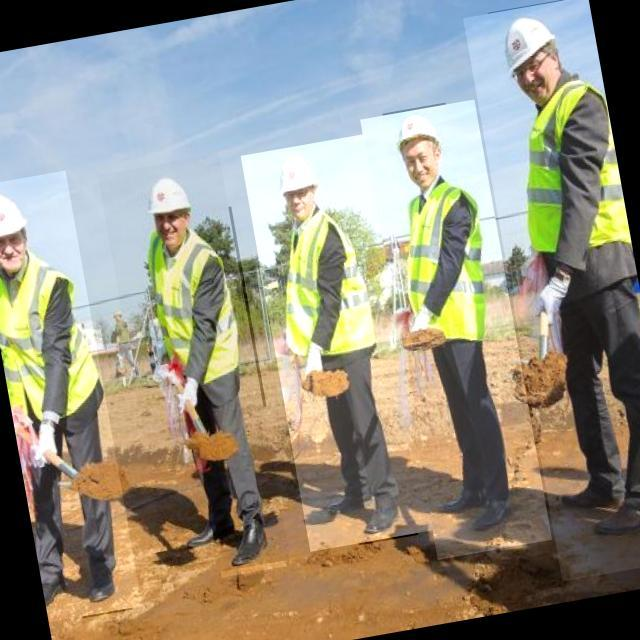Gloves: (513, 267, 593, 346), (20, 412, 78, 487), (165, 368, 216, 433), (287, 330, 336, 397), (397, 301, 442, 354)
Helmet: (487, 0, 577, 91), (382, 102, 456, 177), (263, 145, 336, 213), (145, 174, 203, 231), (0, 177, 38, 254)
Person: (503, 3, 640, 584), (0, 147, 118, 628), (374, 85, 489, 577), (252, 122, 380, 560), (138, 145, 230, 618)
Safety Boot: (549, 452, 636, 529), (209, 494, 287, 577), (168, 485, 248, 564), (574, 463, 640, 550), (313, 452, 387, 523), (348, 475, 418, 545), (454, 477, 527, 544), (70, 541, 122, 618), (427, 463, 492, 519), (35, 541, 75, 620)
Safety Vest: (379, 163, 513, 371), (143, 231, 243, 396), (0, 251, 78, 451), (285, 210, 373, 372)
